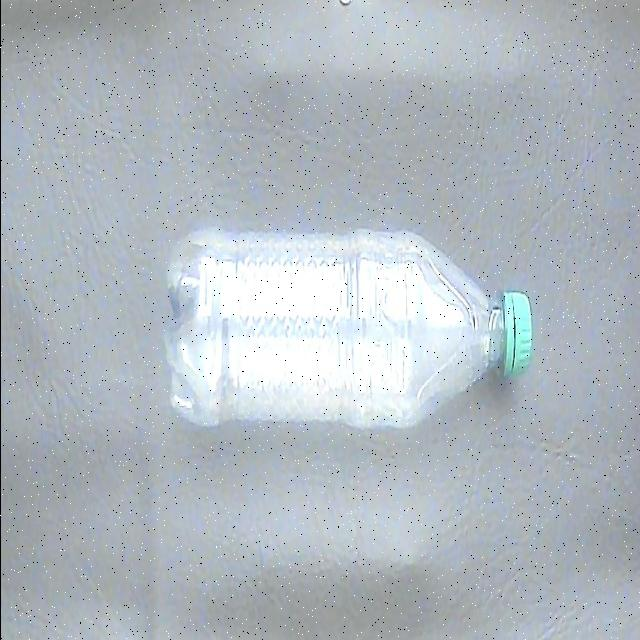plastic: (155, 221, 536, 428)
